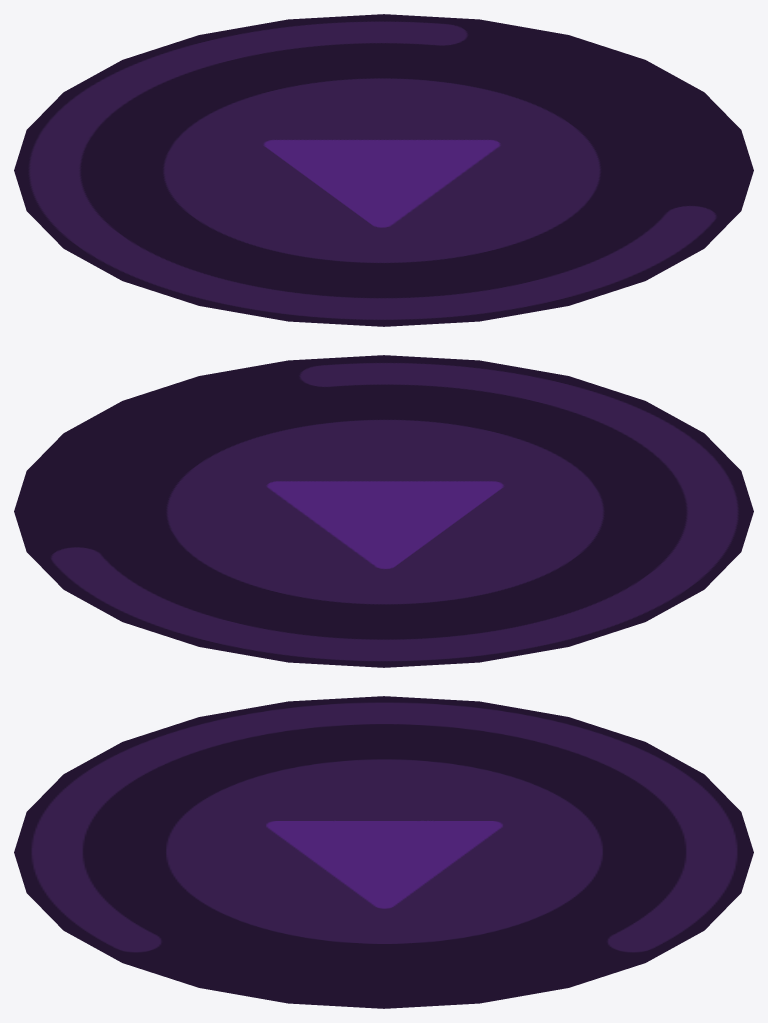
File: meshStartPlane.fbx
3 renders of one model, top to bottom at view 1: azimuth 30°, elevation 25°; view 2: azimuth 150°, elevation 25°; view 3: azimuth 270°, elevation 25°, orthographic.
Parts seen in each view (by area): view 1: meshStartPlane; view 2: meshStartPlane; view 3: meshStartPlane.
Part boxes in pixels (x1=…): meshStartPlane: x1=14, y1=14, x2=753, y2=326; meshStartPlane: x1=14, y1=355, x2=753, y2=667; meshStartPlane: x1=14, y1=696, x2=753, y2=1008.
Size of the model in its own units: 11.15 by 0 by 11.15.
Materials: 1 (1 with a texture image).
